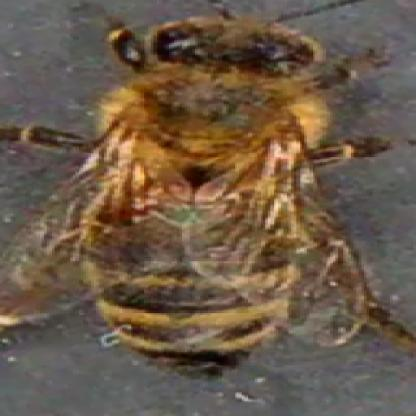bee: (86, 8, 320, 366)
vaoora: (107, 204, 152, 222)
